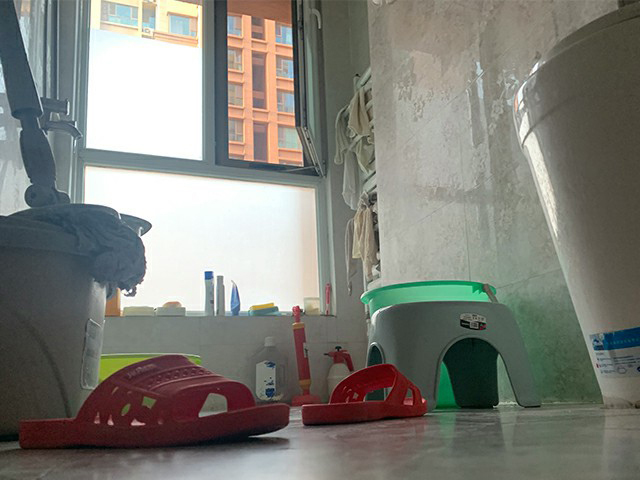closestool: (512, 3, 640, 409)
slippers: (15, 352, 291, 450), (300, 361, 429, 427)
stool: (362, 300, 541, 411)
